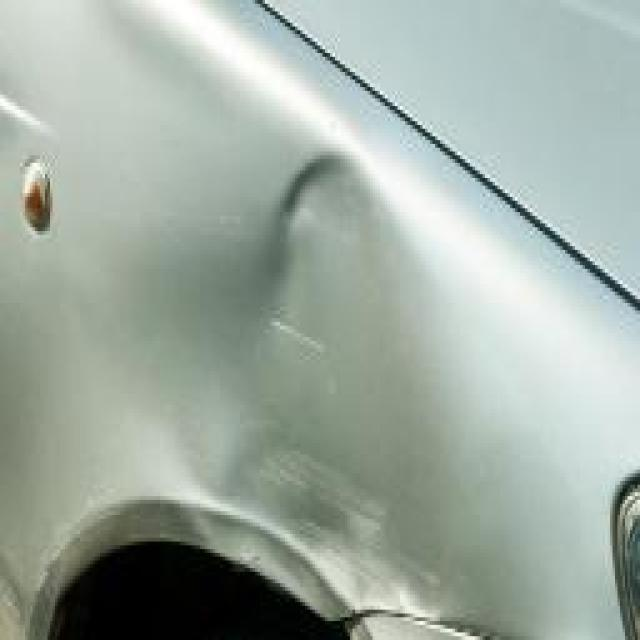Fender: (158, 38, 620, 640)
